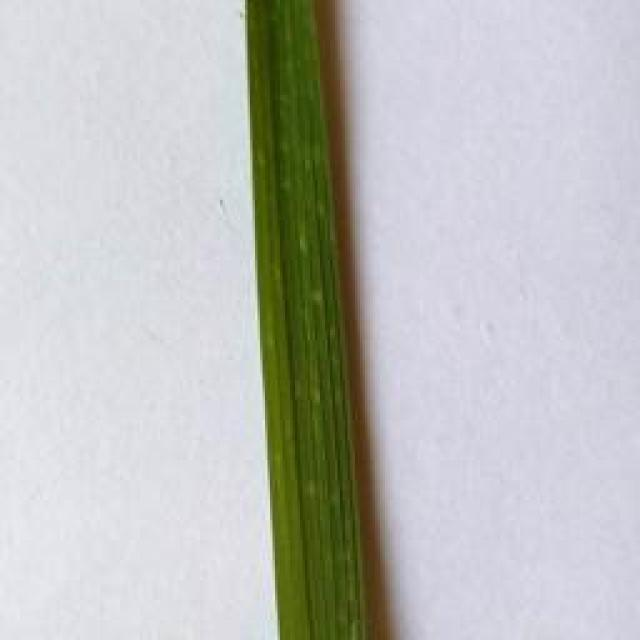Healthy-Plant: (243, 0, 387, 640)
